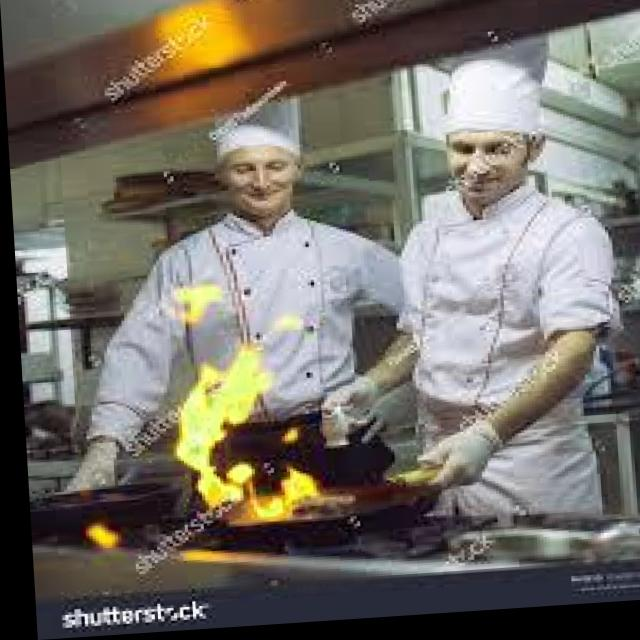fire: (141, 345, 382, 546)
